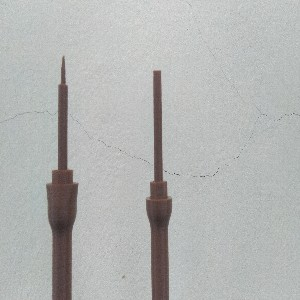obeng: (145, 68, 174, 300)
solder: (47, 53, 79, 300)
